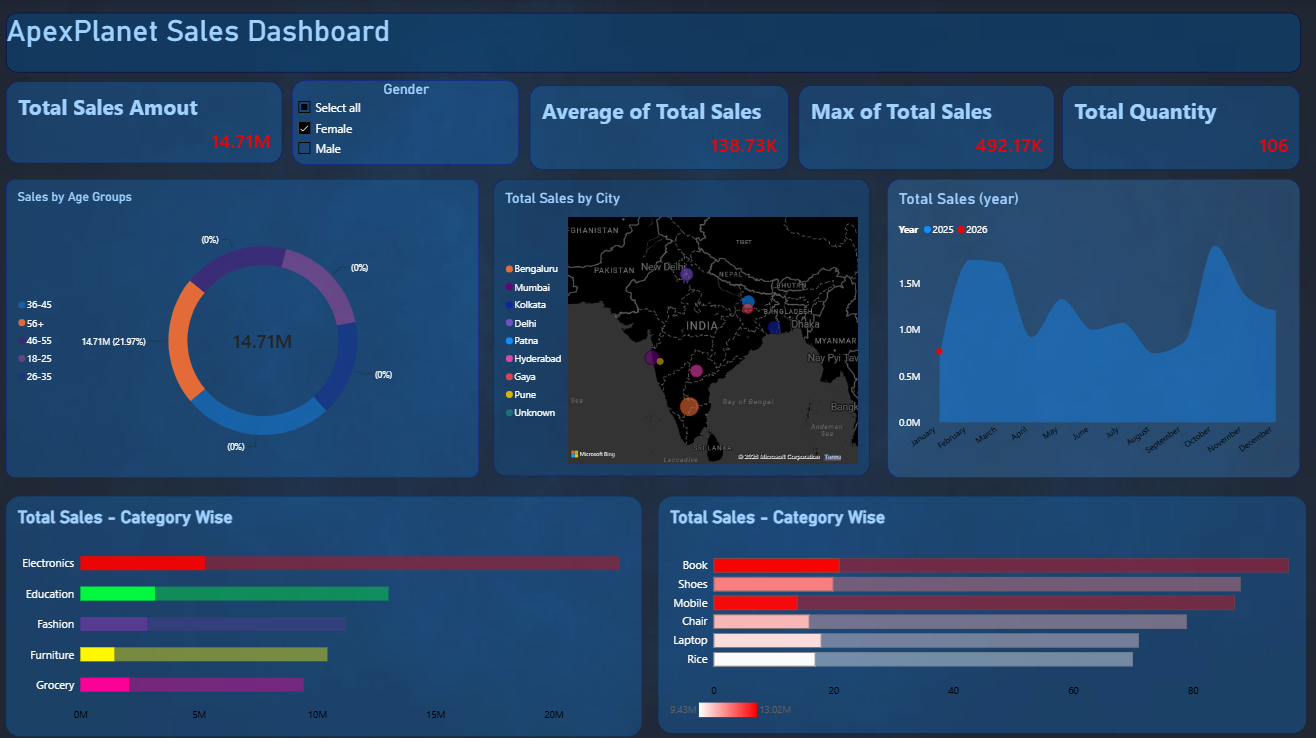

Layout of this report page (visuals, bound fields, positions):
{"tool":"powerbi","page":{"name":"Page 1","canvas":[1920,1080],"ordinal":0},"visuals":[{"type":"clusteredBarChart","title":"Total Sales - Category Wise","fields":{"Category":["Dim_Product.Category"],"Y":["Sum(Fact_Sales.Total_Sales)"]},"box":[15,720,920,347.5],"z":0},{"type":"clusteredBarChart","title":"Total Sales - Category Wise","fields":{"Category":["Dim_Product.Product"],"Y":["CountNonNull(Fact_Sales.Quantity)"]},"box":[960,720,937.5,342.5],"z":1000},{"type":"stackedAreaChart","title":"Total Sales (year)","fields":{"Y":["Sum(Fact_Sales.Total_Sales)"],"Category":["Dim_Date.Date.Variation.Date Hierarchy.Month"],"Series":["Dim_Date.Date.Variation.Date Hierarchy.Year"]},"box":[1290,260,597.5,432.5],"z":2000},{"type":"donutChart","title":"Sales by Age Groups","fields":{"Category":["Dim_Customers.Age_Group"],"Y":["Sum(Fact_Sales.Total_Sales)"]},"box":[15,260,685,432.5],"z":3000},{"type":"slicer","title":"Gender ","fields":{"Values":["Dim_Customers.Gender"]},"box":[428,118,328,122],"z":4000},{"type":"map","title":"Total Sales by City","fields":{"Category":["Dim_Location.City"],"Size":["Sum(Fact_Sales.Total_Sales)"],"Series":["Dim_Location.City"]},"box":[720,260,545,430],"z":5000},{"type":"cardVisual","title":"total","fields":{"Data":["CountNonNull(Fact_Sales.Quantity)"]},"box":[1544,124,344,122],"z":6000},{"type":"shape","title":"ApexPlanet Sales Dashboard","box":[14,20,1874,86],"z":7000},{"type":"cardVisual","title":"total","fields":{"Data":["Sum(Fact_Sales.Total_Sales)"]},"box":[14,120,400,118],"z":8000},{"type":"cardVisual","title":"total","fields":{"Data":["Avg(Fact_Sales.Total_Sales)"]},"box":[772,124,375,122.5],"z":9000},{"type":"cardVisual","title":"total","fields":{"Data":["Max(Fact_Sales.Total_Sales)"]},"box":[1162,124,370,122],"z":10000}]}

Visuals, with their boxes in screenshot pixels (x1, y1, x2, y2), scaled from the page's 1920x1080 canvas onto the 1316x738 screenshot:
"Total Sales - Category Wise" clusteredBarChart: detection(10, 492, 641, 729)
"Total Sales - Category Wise" clusteredBarChart: detection(658, 492, 1301, 726)
"Total Sales (year)" stackedAreaChart: detection(884, 178, 1294, 473)
"Sales by Age Groups" donutChart: detection(10, 178, 480, 473)
"Gender " slicer: detection(293, 81, 518, 164)
"Total Sales by City" map: detection(494, 178, 867, 472)
"total" cardVisual: detection(1058, 85, 1294, 168)
"ApexPlanet Sales Dashboard" shape: detection(10, 14, 1294, 72)
"total" cardVisual: detection(10, 82, 284, 163)
"total" cardVisual: detection(529, 85, 786, 168)
"total" cardVisual: detection(796, 85, 1050, 168)
